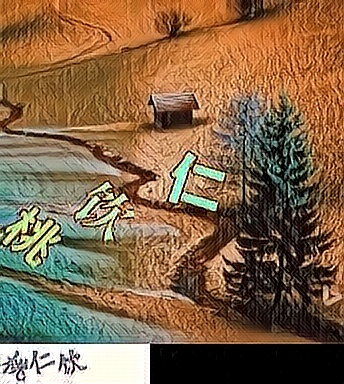C8CA: (165, 149, 227, 213)
CCD2: (2, 205, 64, 269)
D2FB: (72, 181, 134, 245)
